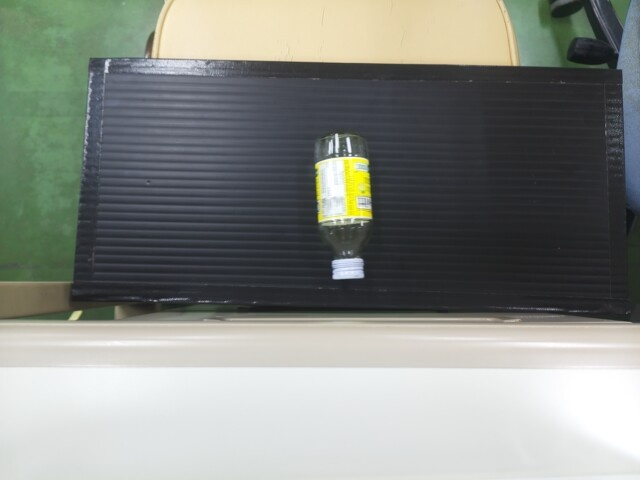glass_bottle: (315, 134, 374, 282)
